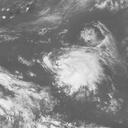cyclone: (53, 49, 107, 93)
